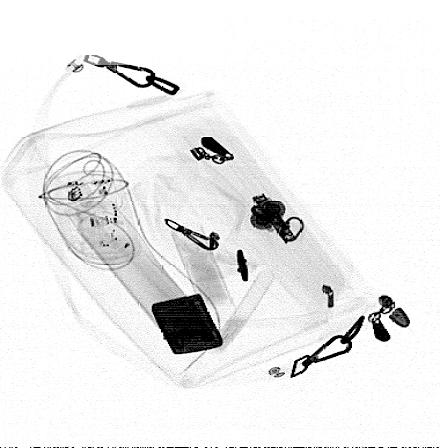Lighter: (150, 293, 224, 355)
